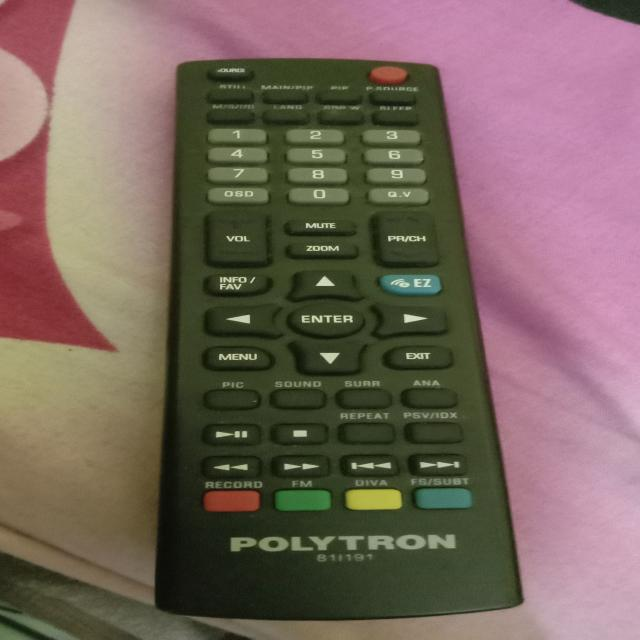remote: (128, 51, 531, 614)
